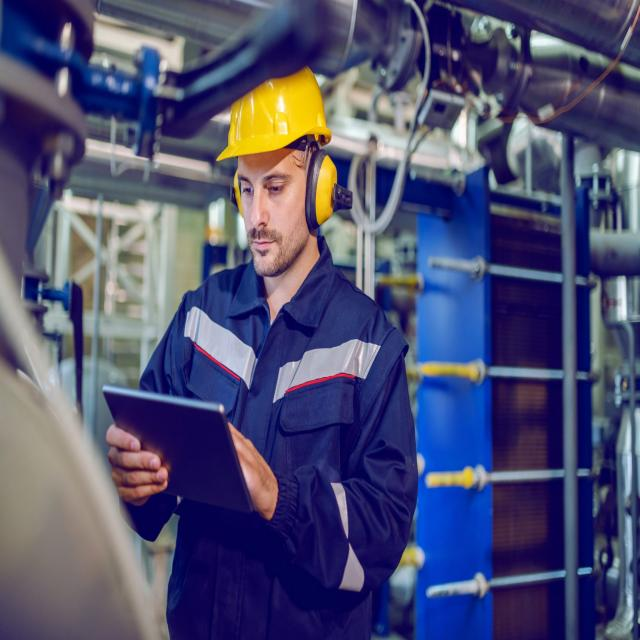Reflective-Jacket: (166, 260, 404, 629)
Safety-Helmet: (216, 66, 334, 166)
